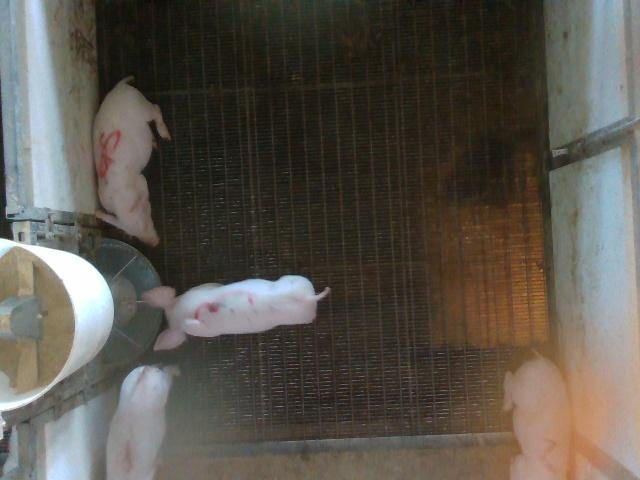pig-1: (106, 366, 171, 478)
pig-2: (504, 355, 569, 479)
pig-3: (144, 275, 330, 351)
pig-5: (94, 76, 171, 246)
